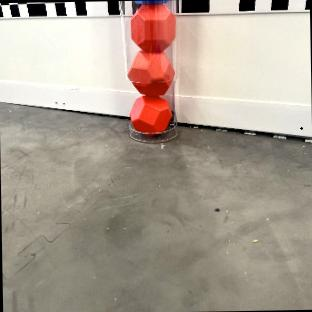Loader: (121, 0, 180, 141)
V5_RED: (127, 47, 174, 97), (130, 2, 175, 51), (129, 93, 171, 133)
